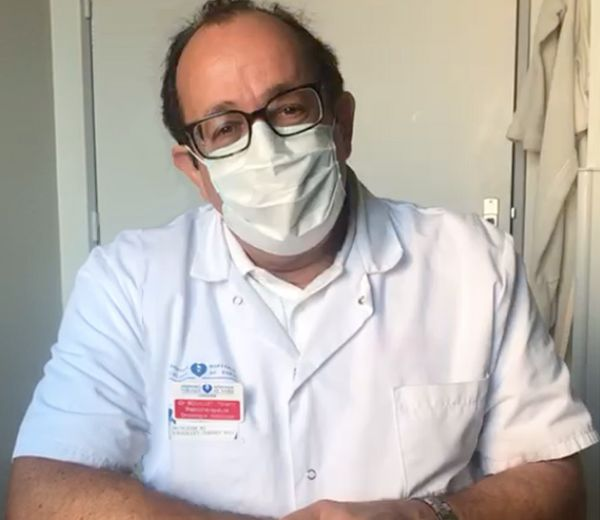with_mask: (201, 59, 326, 209)
